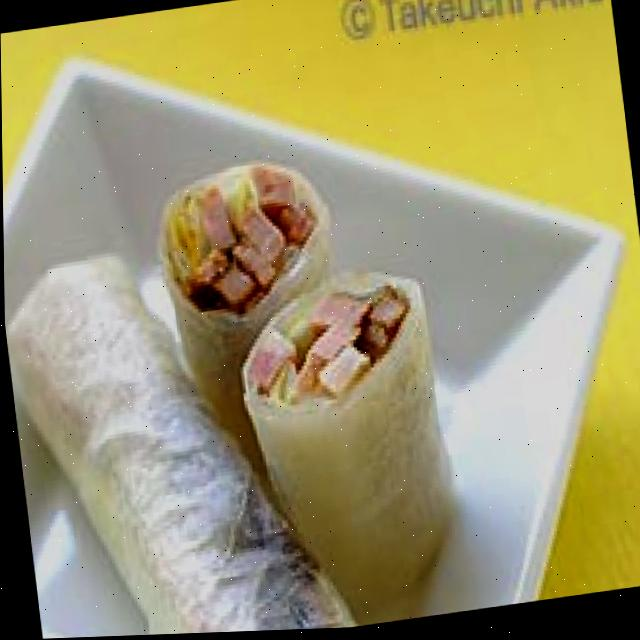鸡蛋料理: (2, 127, 486, 640)
